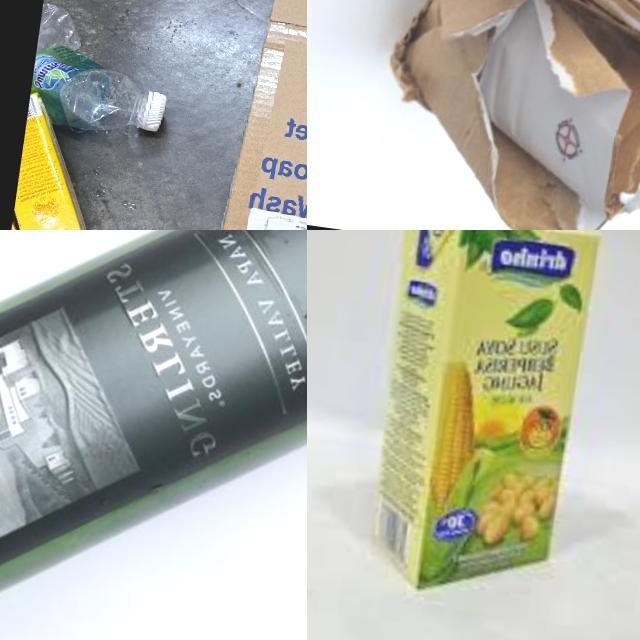caixinha: (363, 230, 599, 610), (4, 90, 120, 230), (1, 183, 43, 230)
garrafa de vidro: (0, 230, 307, 640)
garrafa plástica: (27, 2, 160, 136)
papelão: (366, 0, 640, 230), (175, 0, 307, 230)
tampa plástica: (140, 90, 170, 134)
